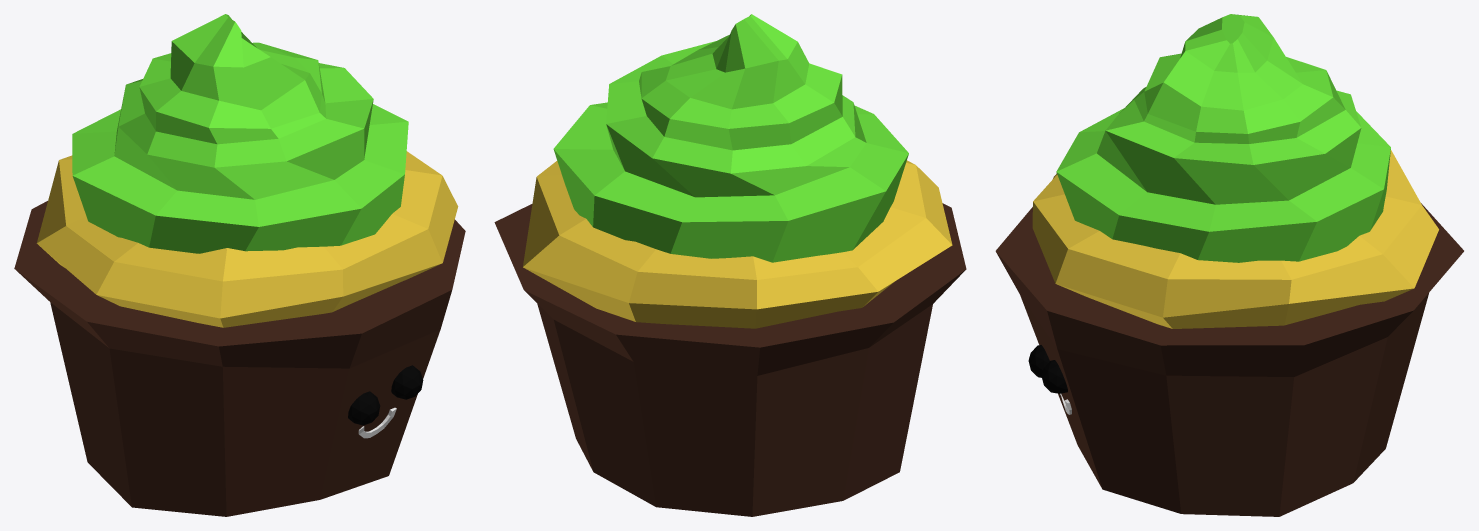
File: MMCupcake.fbx
3 views of the same model, side by side, from view 1: azimuth 30°, elevation 25°; view 2: azimuth 150°, elevation 25°; view 3: azimuth 270°, elevation 25° (orthographic). The views are drawn at different scales.
Visible parts, largest first — view 1: Cup, Cream, Cake, CupcakeEye2, CupcakeEye1; view 2: Cup, Cream, Cake; view 3: Cup, Cream, Cake, CupcakeEye2.
Boxes of the visible parts, x1,y1,x2,y2 form: Cup: [14, 201, 465, 516]; Cream: [72, 14, 408, 253]; Cake: [36, 151, 458, 327]; CupcakeEye2: [391, 365, 423, 399]; CupcakeEye1: [348, 391, 380, 425]; Cup: [494, 203, 966, 516]; Cream: [553, 14, 908, 262]; Cake: [523, 160, 952, 328]; Cup: [995, 203, 1463, 516]; Cream: [1056, 14, 1390, 262]; Cake: [1032, 150, 1438, 328]; CupcakeEye2: [1041, 360, 1067, 393].
Size of the model in its own units: 209 by 224 by 218.
